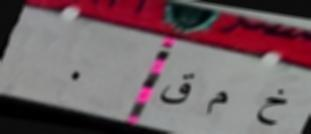0: (68, 65, 84, 90)
khaa: (256, 86, 289, 130)
meem: (204, 86, 231, 121)
qaaf: (158, 67, 196, 113)
